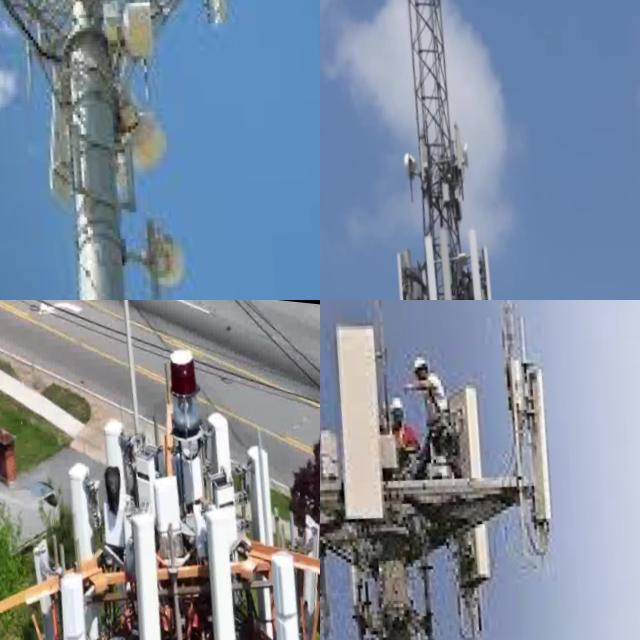GSM Antenna: (321, 306, 408, 528), (437, 375, 518, 600), (515, 348, 576, 520), (114, 499, 188, 640), (192, 493, 261, 640), (25, 526, 80, 640), (62, 442, 110, 566), (267, 536, 320, 640), (145, 443, 194, 554), (320, 376, 345, 591), (241, 428, 285, 544), (202, 392, 245, 501), (54, 560, 106, 640), (290, 503, 320, 640), (467, 219, 500, 300), (440, 213, 470, 300), (427, 222, 456, 300), (98, 404, 131, 469), (393, 240, 423, 300), (484, 235, 511, 300), (457, 117, 476, 170)
Microwave Antenna: (142, 202, 208, 300), (112, 89, 189, 171), (112, 0, 169, 66), (405, 142, 432, 184), (465, 135, 482, 172)
